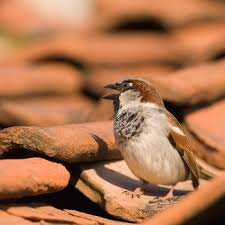hsparrow: (95, 71, 208, 199)
